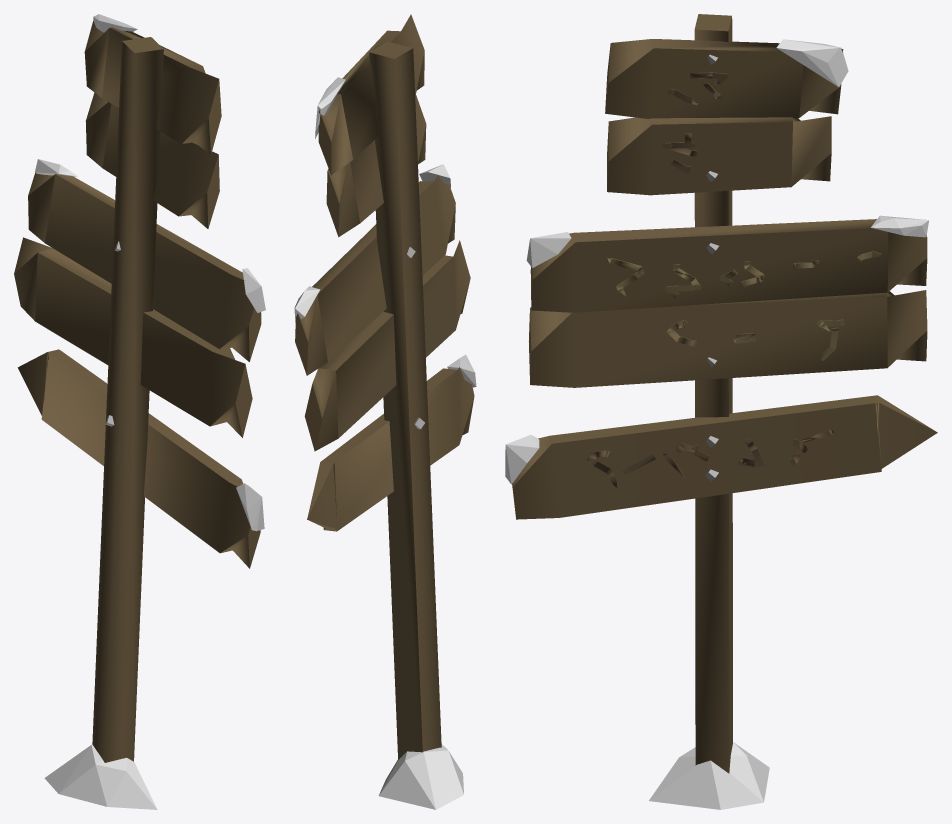
Rendered from sign.fbx.
3 renders of one model, left to right at view 1: azimuth 30°, elevation 25°; view 2: azimuth 150°, elevation 25°; view 3: azimuth 270°, elevation 25°, orthographic. The views are drawn at different scales.
Parts seen in each view (by area): view 1: sign; view 2: sign; view 3: sign.
Part boxes in pixels (x1,y1,x2,y2): sign: (14,14,265,809); sign: (294,14,476,809); sign: (505,14,937,809).
Size of the model in its own units: 59.18 by 349 by 174.
